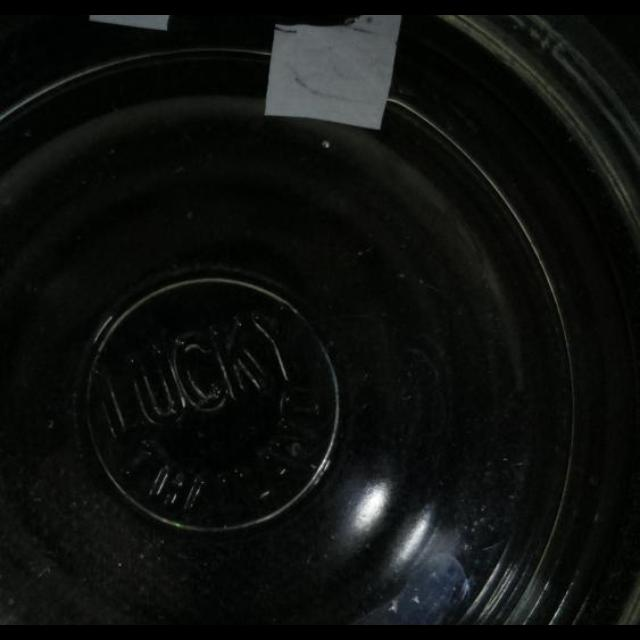Fragment: (261, 15, 401, 130), (90, 16, 174, 32)
